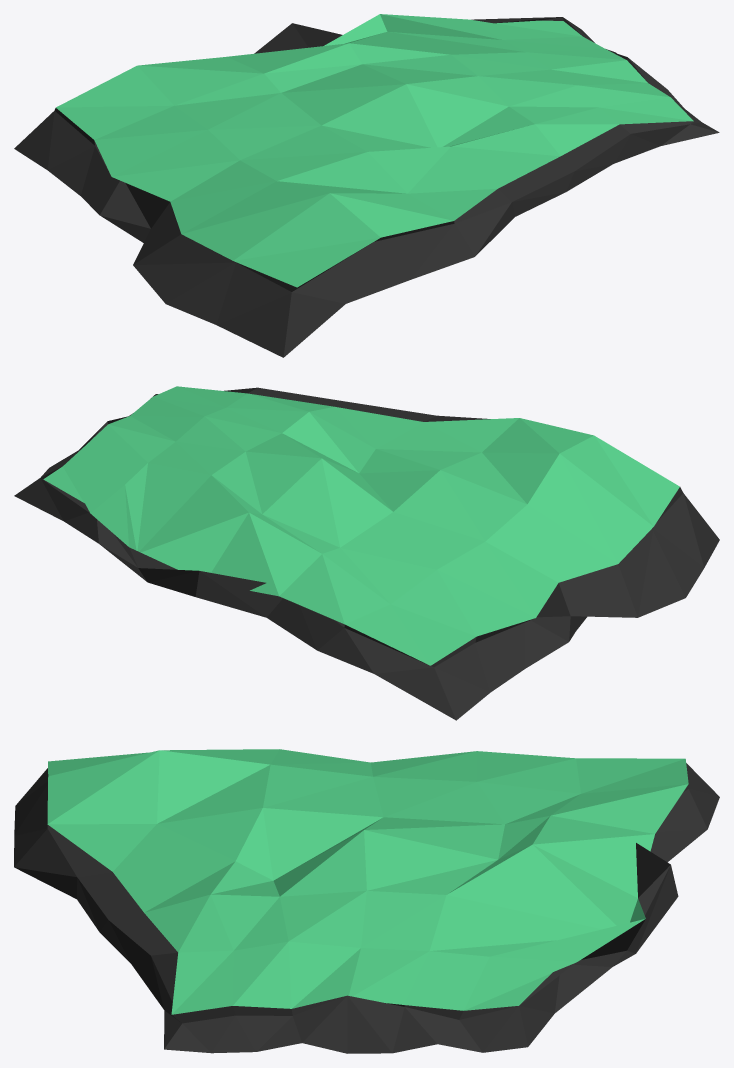
Rendered from Ada2.fbx.
3 renders of one model, top to bottom at view 1: azimuth 30°, elevation 25°; view 2: azimuth 150°, elevation 25°; view 3: azimuth 270°, elevation 25°, orthographic. The views are drawn at different scales.
Visible parts, largest first — view 1: Plane; view 2: Plane; view 3: Plane.
Boxes of the visible parts, left/top/right/bottom form: Plane: left=14, top=14, right=719, bottom=357; Plane: left=14, top=386, right=719, bottom=720; Plane: left=14, top=749, right=719, bottom=1053.
Bounding box in the file's own units: 18.65 × 3.81 × 16.19.
